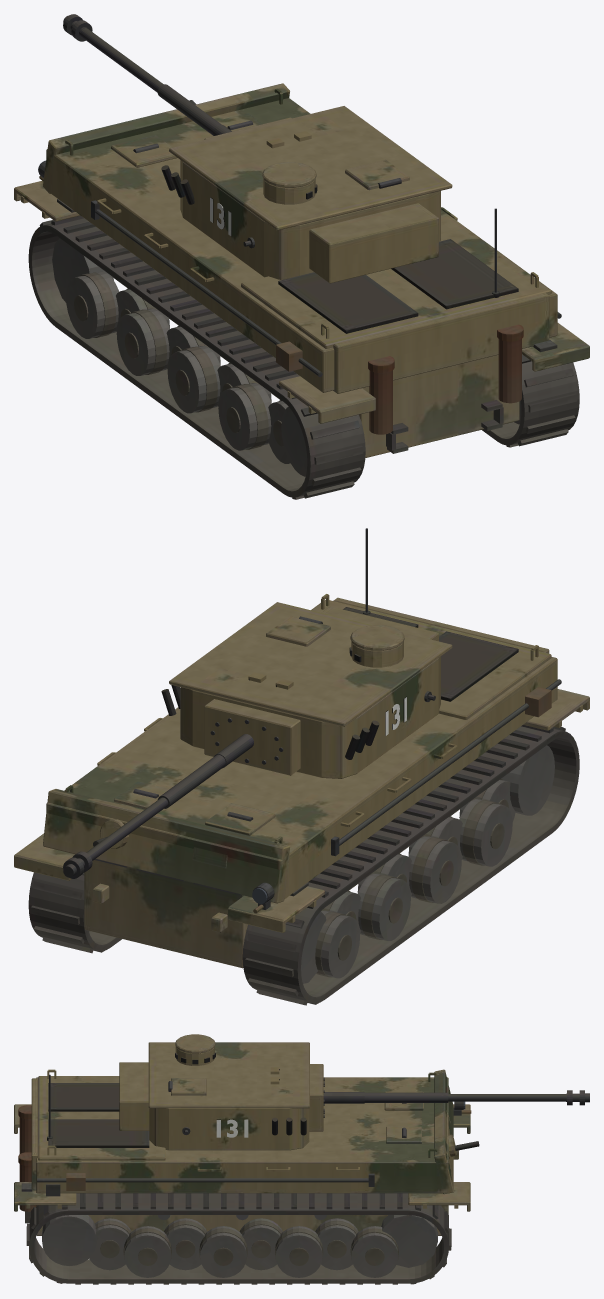
File: tiger.glb
The picture shows the model from 3 angles, top to bottom: view 1: azimuth 30°, elevation 25°; view 2: azimuth 150°, elevation 25°; view 3: azimuth 270°, elevation 25°; orthographic projection. The views are drawn at different scales.
Parts seen in each view (by area): view 1: WEB_H_Camo, WEB_H_Other.001, WEB_T_Camo, Wheel_L_02, Wheel_L_06, Wheel_L_04, Wheel_L_08, Gun, Wheel_L_09, Wheel_L_00, WEB_T_Other.001, Wheel_L_03 (+3 smaller); view 2: WEB_H_Camo, WEB_T_Camo, WEB_H_Other.001, Gun, Wheel_L_02, Wheel_L_04, Wheel_L_06, Wheel_L_00, Wheel_L_08, WEB_T_Other.001, Wheel_L_09, Wheel_L_03 (+2 smaller); view 3: WEB_H_Camo, WEB_H_Other.001, WEB_T_Camo, Gun, Wheel_R_10, Wheel_R_19, Wheel_R_16, Wheel_R_14, Wheel_R_12, Wheel_R_18, Wheel_R_15, Wheel_R_17 (+3 smaller).
Boxes of the visible parts, x1,y1,x2,y2 form: WEB_H_Camo: (14, 83, 589, 457); WEB_H_Other.001: (28, 120, 579, 497); WEB_T_Camo: (169, 106, 452, 283); Wheel_L_02: (218, 383, 271, 450); Wheel_L_06: (116, 308, 169, 375); Wheel_L_04: (167, 345, 220, 413); Wheel_L_08: (66, 271, 119, 338); Gun: (63, 14, 231, 135); Wheel_L_09: (52, 238, 113, 302); Wheel_L_00: (281, 407, 307, 476); WEB_T_Other.001: (161, 165, 317, 248); Wheel_L_03: (217, 363, 271, 406); WEB_H_Camo: (14, 594, 589, 968); WEB_T_Camo: (169, 602, 452, 778); WEB_H_Other.001: (28, 528, 579, 1003); Gun: (63, 734, 253, 878); Wheel_L_02: (459, 799, 512, 866); Wheel_L_04: (408, 836, 461, 903); Wheel_L_06: (357, 873, 410, 940); Wheel_L_00: (501, 745, 554, 815); Wheel_L_08: (315, 910, 359, 978); WEB_T_Other.001: (161, 647, 435, 764); Wheel_L_09: (301, 911, 326, 983); Wheel_L_03: (408, 816, 462, 859); WEB_H_Camo: (14, 1069, 470, 1235); WEB_H_Other.001: (18, 1074, 471, 1283); WEB_T_Camo: (119, 1034, 323, 1150); Gun: (323, 1090, 589, 1105); Wheel_R_10: (42, 1215, 96, 1265); Wheel_R_19: (381, 1215, 437, 1267); Wheel_R_16: (275, 1226, 323, 1277); Wheel_R_14: (199, 1226, 247, 1277); Wheel_R_12: (123, 1226, 171, 1277); Wheel_R_18: (350, 1226, 398, 1277); Wheel_R_15: (239, 1218, 282, 1270); Wheel_R_17: (315, 1218, 358, 1270).
Bounding box in the file's own units: 3.58 × 3.14 × 8.83.
Materials: 10 (9 with a texture image).
